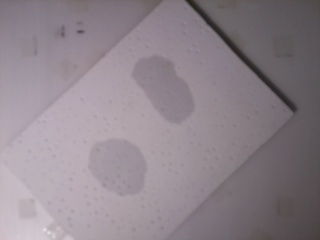Water_detected: (139, 61, 189, 113), (98, 147, 141, 190)
